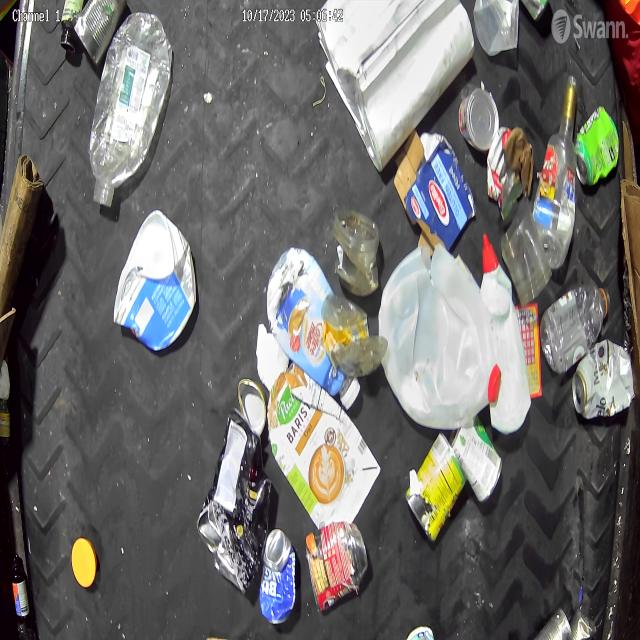can: (405, 428, 467, 546), (574, 340, 636, 421), (449, 422, 503, 503), (260, 526, 298, 626), (73, 0, 127, 70), (573, 106, 619, 187), (458, 84, 500, 154), (236, 377, 266, 438), (534, 607, 573, 640)
milk_jug: (378, 235, 498, 428)
plastic_bottle: (88, 13, 175, 211), (533, 127, 576, 272), (541, 285, 611, 372)
